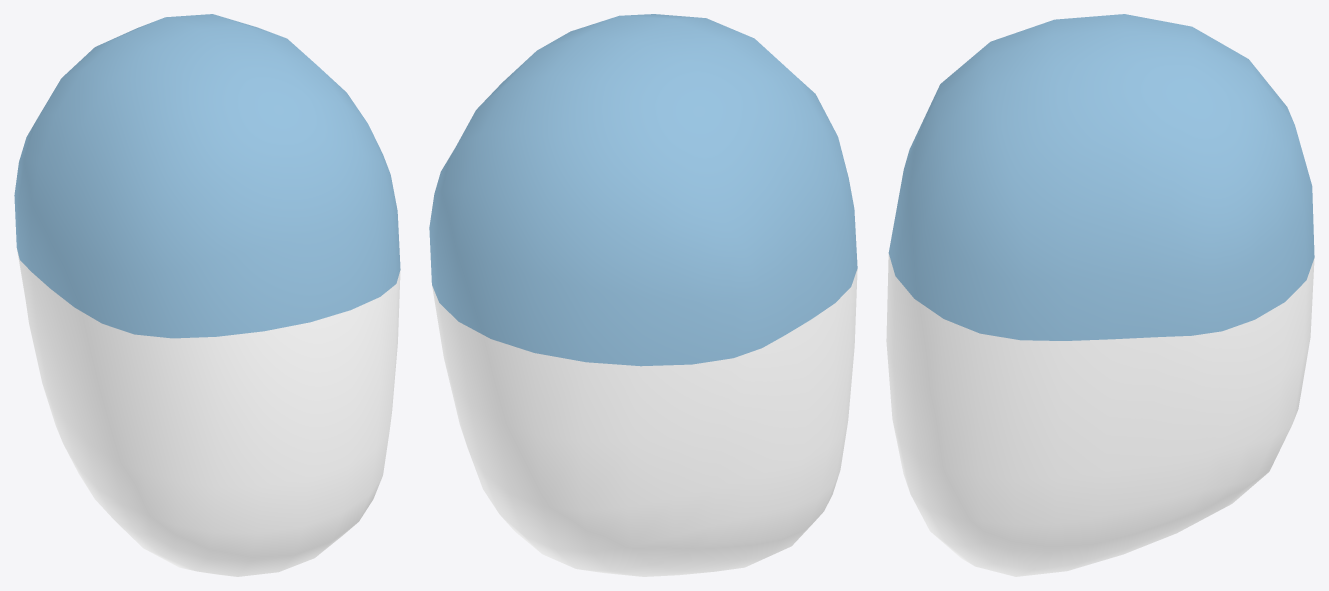
Rendered from head_oblong.glb.
3 renders of one model, left to right at view 1: azimuth 30°, elevation 25°; view 2: azimuth 150°, elevation 25°; view 3: azimuth 270°, elevation 25°, orthographic. The views are drawn at different scales.
Visible parts, largest first — view 1: head_narrow_01.004; view 2: head_narrow_01.004; view 3: head_narrow_01.004.
Part boxes in pixels (left/top/right/bottom): head_narrow_01.004: left=14, top=14, right=400, bottom=576; head_narrow_01.004: left=429, top=14, right=857, bottom=576; head_narrow_01.004: left=886, top=14, right=1314, bottom=576.
Bounding box in the file's own units: 1.22 × 1.88 × 1.39.
